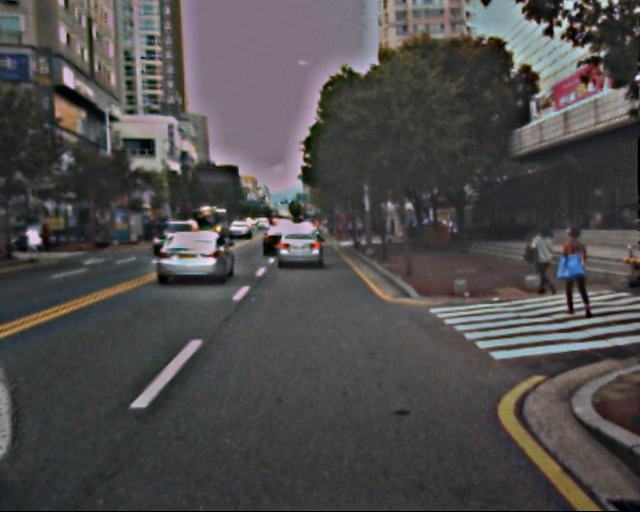person: (554, 225, 593, 319), (529, 224, 559, 297)
